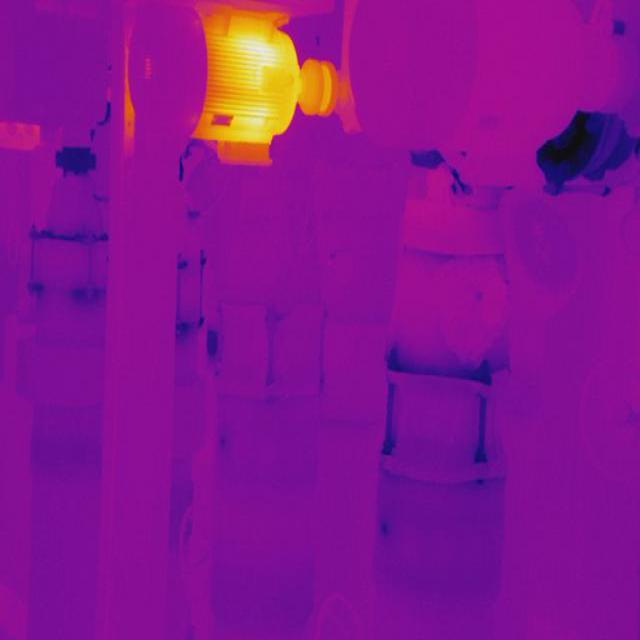leakage: (539, 107, 635, 196), (411, 144, 470, 196)
